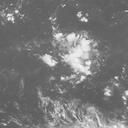cyclone: (54, 33, 93, 79)
